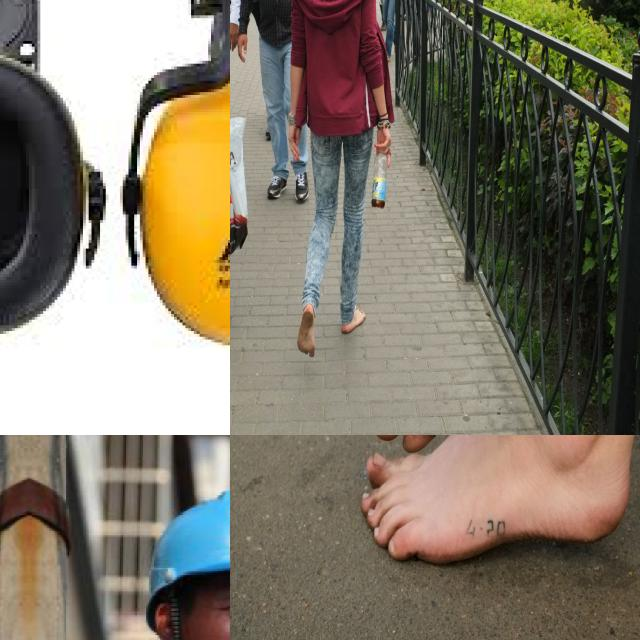Barefoots: (362, 437, 630, 565), (297, 305, 315, 357), (341, 306, 366, 334)
Ear-protection: (0, 0, 101, 349), (137, 55, 230, 348)
No_Ear-Protection: (153, 603, 176, 640)
No_Glasses: (210, 592, 230, 621)
head_helmet: (147, 490, 230, 627)
